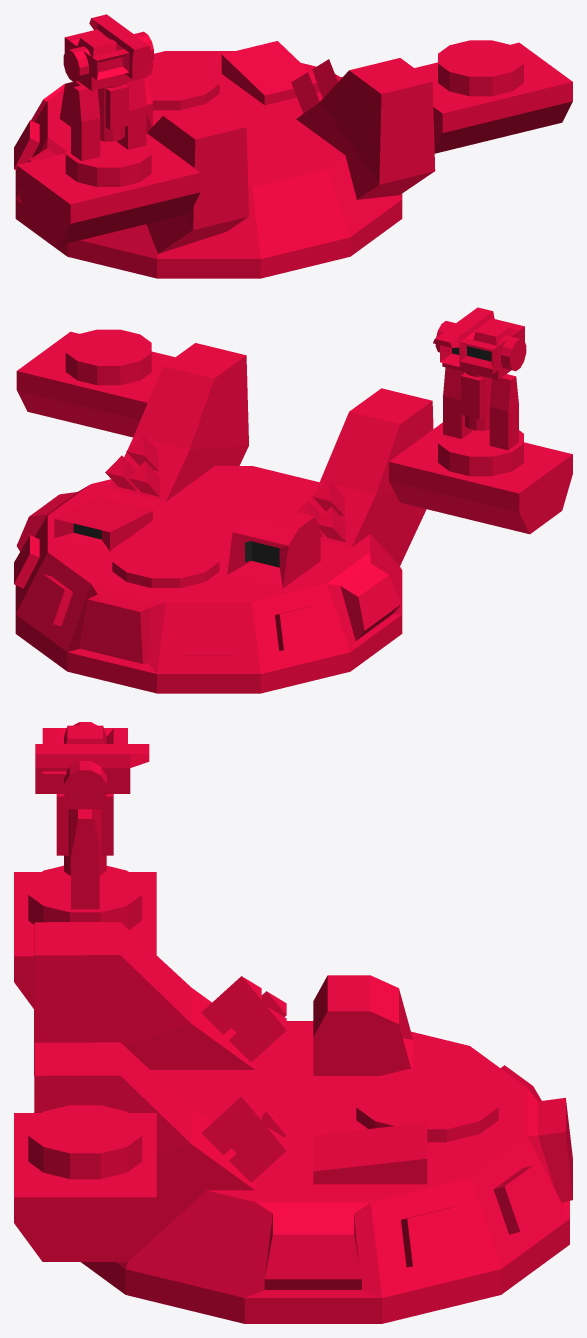
Rendered from evil apc turret.gltf.
3 views of the same model, one above another, from view 1: azimuth 30°, elevation 25°; view 2: azimuth 150°, elevation 25°; view 3: azimuth 270°, elevation 25° (orthographic). The views are drawn at different scales.
Parts seen in each view (by area): view 1: Turret; view 2: Turret; view 3: Turret.
Boxes of the visible parts, bbox=[...] form: Turret: bbox=[14, 14, 572, 278]; Turret: bbox=[14, 307, 572, 693]; Turret: bbox=[14, 722, 572, 1323].
Size of the model in its own units: 3.38 by 1.72 by 2.45.
Materials: 1 (1 with a texture image).
